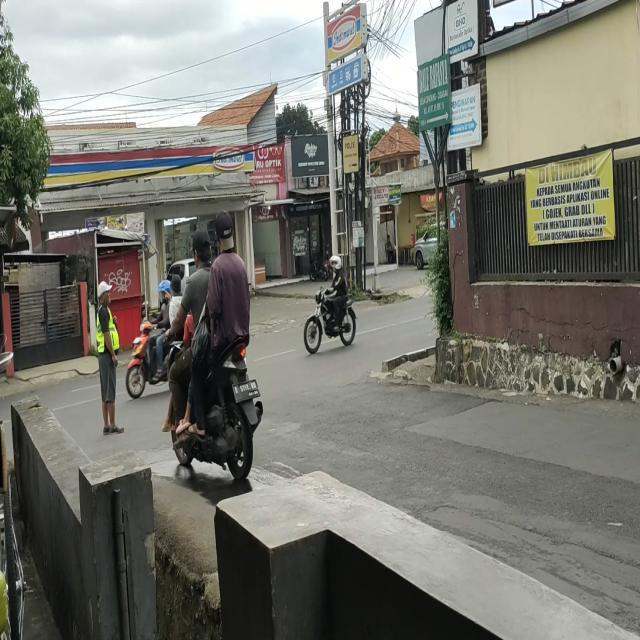helmet: (331, 255, 341, 272), (160, 282, 168, 301)
no-helmet: (189, 233, 212, 271), (215, 215, 233, 248)
